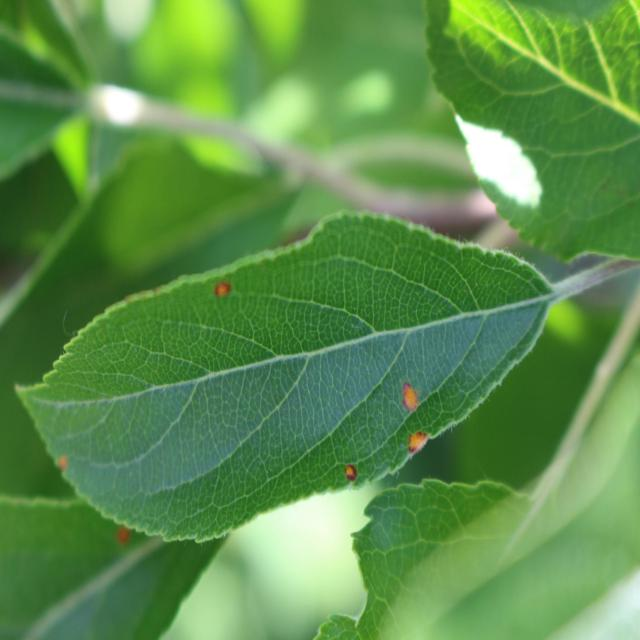Rust: (203, 274, 240, 312), (399, 426, 438, 459), (395, 377, 423, 420), (341, 442, 363, 496)
